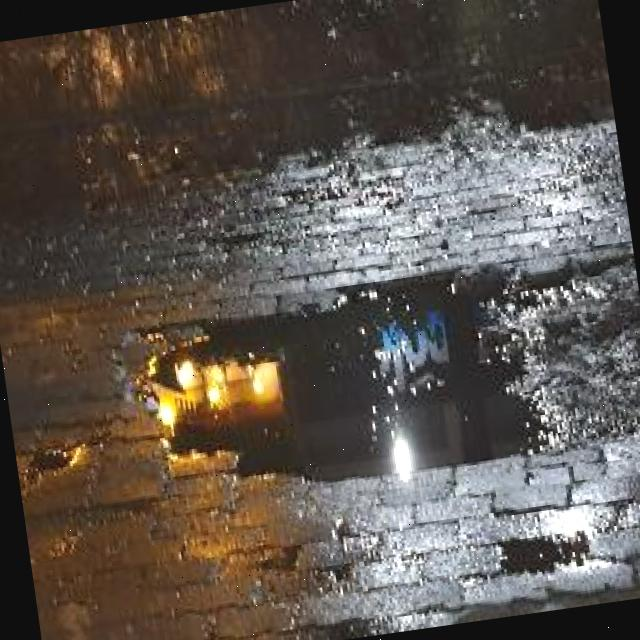waterlogging: (122, 225, 640, 520)
